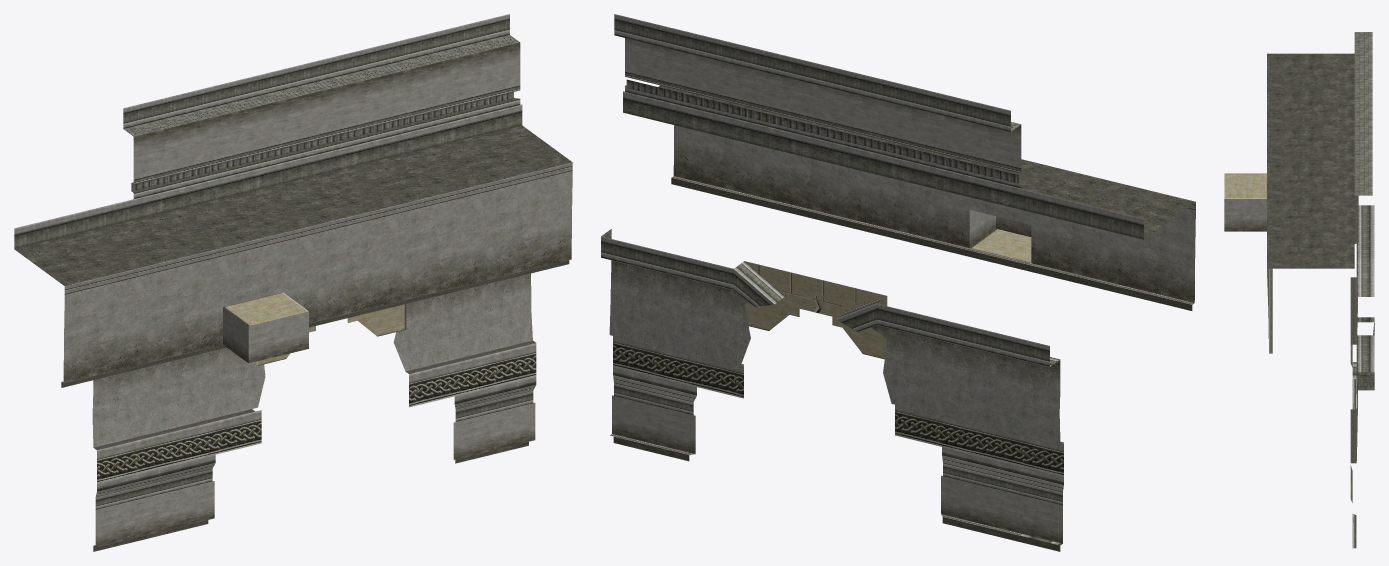
Rendered from DWARF_PALACE_MAINHALL_WALL01A.fbx.
3 views of the same model, side by side, from view 1: azimuth 30°, elevation 25°; view 2: azimuth 150°, elevation 25°; view 3: azimuth 270°, elevation 25° (orthographic). The views are drawn at different scales.
Visible parts, largest first — view 1: DWARF_PALACE_MAINHALL_WALL01A; view 2: DWARF_PALACE_MAINHALL_WALL01A; view 3: DWARF_PALACE_MAINHALL_WALL01A.
Boxes of the visible parts, x1,y1,x2,y2 form: DWARF_PALACE_MAINHALL_WALL01A: [14, 14, 572, 551]; DWARF_PALACE_MAINHALL_WALL01A: [601, 14, 1195, 551]; DWARF_PALACE_MAINHALL_WALL01A: [1224, 32, 1374, 548].
Size of the model in its own units: 260999 by 205000 by 75469.
10 materials, 10 textured.
